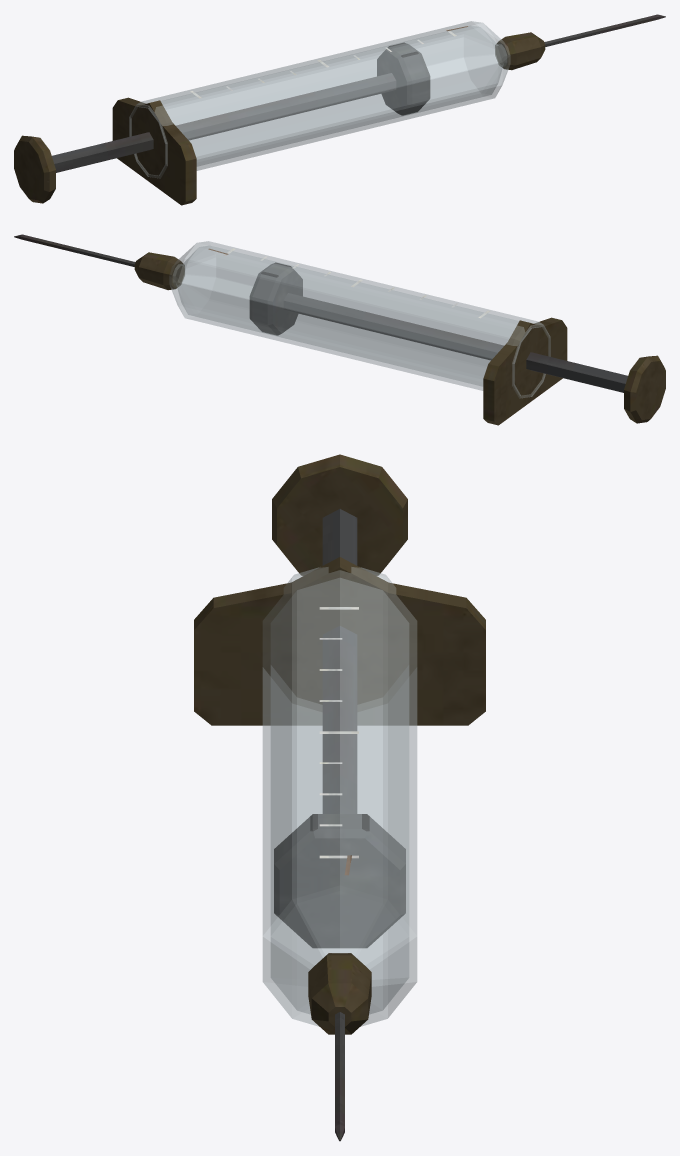
The model's file is HE01_old_syringes_v1.glb.
3 renders of one model, top to bottom at view 1: azimuth 30°, elevation 25°; view 2: azimuth 150°, elevation 25°; view 3: azimuth 270°, elevation 25°, orthographic. The views are drawn at different scales.
Parts seen in each view (by area): view 1: Barrel wall and open rear rim; view 2: Barrel wall and open rear rim; view 3: Barrel wall and open rear rim.
Boxes of the visible parts, x1,y1,x2,y2 form: Barrel wall and open rear rim: (14, 14, 665, 205); Barrel wall and open rear rim: (14, 234, 665, 425); Barrel wall and open rear rim: (194, 454, 485, 1141).
Size of the model in its own units: 0.15 by 0.0178 by 0.0298.
6 materials, 5 textured.
